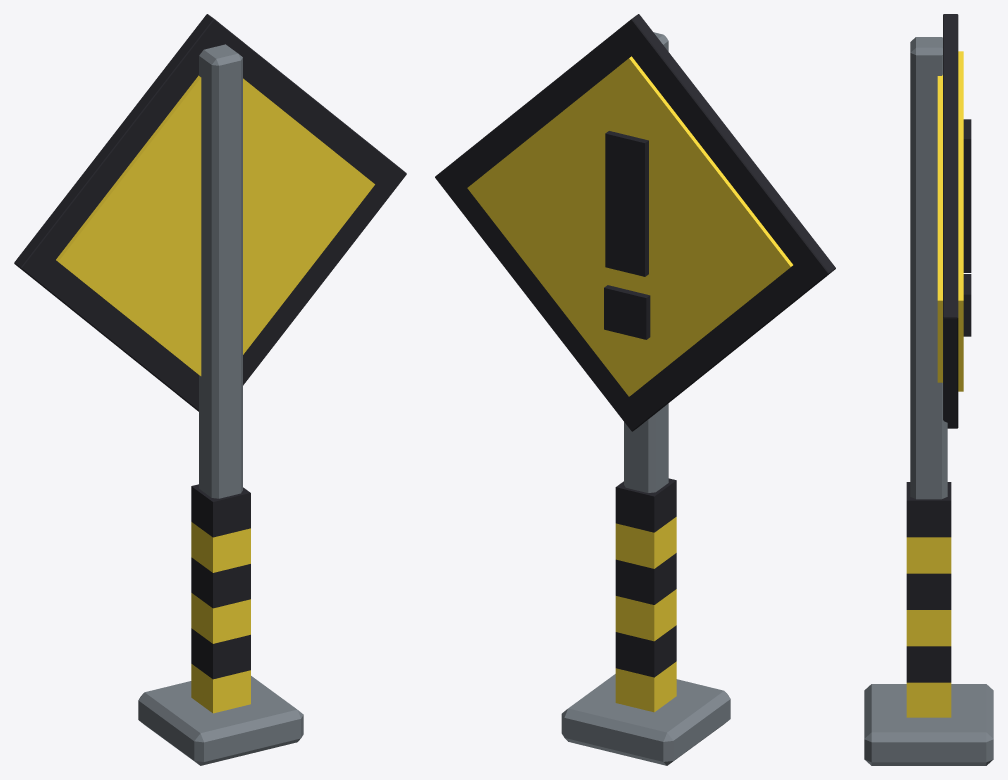
File: TrackHazardSign.fbx
The picture shows the model from 3 angles, left to right: view 1: azimuth 30°, elevation 25°; view 2: azimuth 150°, elevation 25°; view 3: azimuth 270°, elevation 25°; orthographic projection. The views are drawn at different scales.
Parts seen in each view (by area): view 1: DiamondBack, DiamondBorder, SignPost, SignFoot, PostBand.005, PostBand.003, PostBand.001, PostBand.002, PostBand.004, PostBand; view 2: DiamondFace, DiamondBorder, SignFoot, ExclamationBar, SignPost, PostBand.005, PostBand.001, PostBand.002, PostBand.004, PostBand.003, PostBand, ExclamationDot; view 3: SignPost, SignFoot, DiamondBorder, DiamondFace, PostBand.005, DiamondBack, PostBand.001, PostBand.004, PostBand.002, PostBand.003, PostBand, ExclamationBar (+1 smaller).
Part boxes in pixels (x1=…): DiamondBack: x1=56, y1=75, x2=374, y2=375; DiamondBorder: x1=14, y1=14, x2=406, y2=411; SignPost: x1=199, y1=44, x2=242, y2=498; SignFoot: x1=138, y1=676, x2=303, y2=765; PostBand.005: x1=191, y1=484, x2=250, y2=537; PostBand.003: x1=191, y1=557, x2=250, y2=608; PostBand.001: x1=191, y1=628, x2=250, y2=679; PostBand.002: x1=191, y1=593, x2=250, y2=643; PostBand.004: x1=191, y1=522, x2=250, y2=572; PostBand: x1=191, y1=664, x2=250, y2=713; DiamondFace: x1=467, y1=56, x2=792, y2=396; DiamondBorder: x1=435, y1=14, x2=835, y2=431; SignFoot: x1=561, y1=674, x2=730, y2=765; ExclamationBar: x1=605, y1=131, x2=648, y2=276; SignPost: x1=624, y1=32, x2=668, y2=492; PostBand.005: x1=615, y1=478, x2=676, y2=532; PostBand.001: x1=615, y1=625, x2=676, y2=677; PostBand.002: x1=615, y1=589, x2=676, y2=641; PostBand.004: x1=615, y1=517, x2=676, y2=568; PostBand.003: x1=615, y1=553, x2=676, y2=604; PostBand: x1=615, y1=661, x2=676, y2=712; ExclamationDot: x1=604, y1=285, x2=650, y2=339; SignPost: x1=910, y1=37, x2=947, y2=499; SignFoot: x1=864, y1=684, x2=993, y2=765; DiamondBorder: x1=943, y1=14, x2=958, y2=428; DiamondFace: x1=958, y1=51, x2=963, y2=391; PostBand.005: x1=906, y1=482, x2=951, y2=537; DiamondBack: x1=937, y1=75, x2=942, y2=382; PostBand.001: x1=906, y1=646, x2=951, y2=682; PostBand.004: x1=906, y1=537, x2=951, y2=573; PostBand.002: x1=906, y1=610, x2=951, y2=646; PostBand.003: x1=906, y1=573, x2=951, y2=609; PostBand: x1=906, y1=682, x2=951, y2=717; ExclamationBar: x1=963, y1=119, x2=971, y2=272.
Size of the model in its own units: 148 by 260 by 42.
